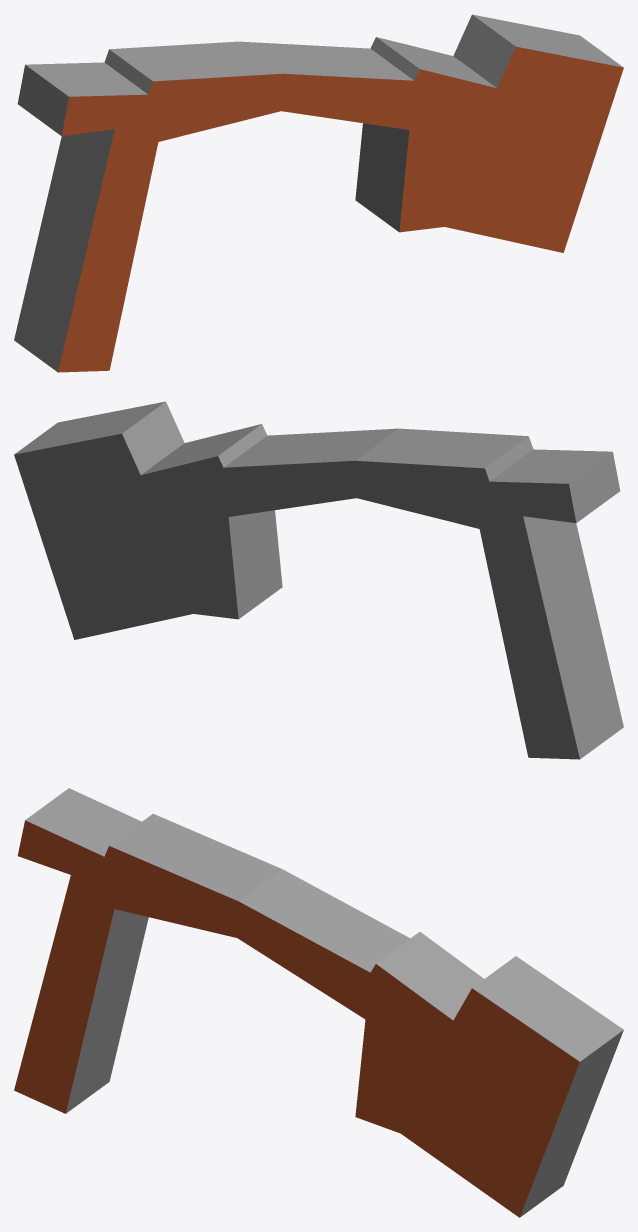
Rendered from construction_1354_assumed_A_Casa_h6m.obj.
3 views of the same model, one above another, from view 1: azimuth 30°, elevation 25°; view 2: azimuth 150°, elevation 25°; view 3: azimuth 330°, elevation 25° (orthographic).
Visible parts, largest first — view 1: construction_1354_assumed_A_Casa; view 2: construction_1354_assumed_A_Casa; view 3: construction_1354_assumed_A_Casa.
Boxes of the visible parts, left/top/right/bottom form: construction_1354_assumed_A_Casa: left=14, top=14, right=623, bottom=372; construction_1354_assumed_A_Casa: left=14, top=401, right=623, bottom=759; construction_1354_assumed_A_Casa: left=14, top=788, right=623, bottom=1217.
Bounding box in the file's own units: 44.6 × 21.37 × 6.
